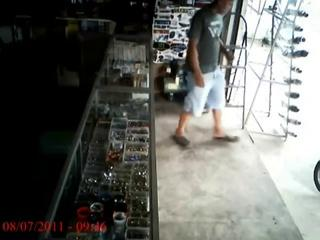Normal: (174, 0, 238, 147)
